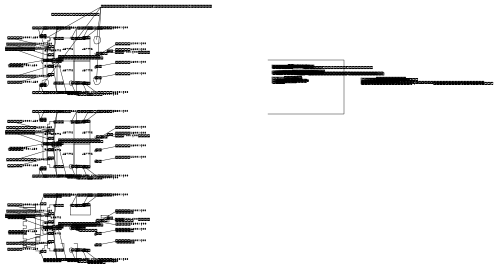corridor: (22, 58, 37, 60), (83, 38, 91, 40)
room: (65, 124, 86, 148), (86, 124, 107, 148), (65, 100, 86, 124), (86, 100, 107, 124), (65, 212, 86, 236), (86, 212, 107, 236), (65, 188, 86, 212), (86, 188, 107, 212), (82, 50, 107, 60), (53, 124, 62, 148), (53, 212, 62, 236), (53, 100, 62, 124), (53, 36, 62, 60), (53, 12, 62, 36), (38, 29, 44, 50), (38, 12, 53, 19), (47, 124, 53, 141), (47, 107, 53, 124), (47, 212, 53, 229), (47, 196, 53, 212), (111, 187, 120, 196), (111, 230, 120, 238), (46, 231, 56, 238), (46, 185, 54, 192), (58, 120, 64, 127), (58, 208, 64, 215), (58, 32, 64, 39), (47, 29, 53, 36), (38, 53, 44, 60), (47, 36, 53, 42), (70, 12, 74, 20), (86, 12, 90, 20), (22, 58, 37, 60), (120, 46, 130, 49), (80, 98, 85, 103), (80, 186, 85, 191), (80, 10, 85, 15), (38, 22, 43, 26), (124, 43, 130, 46), (83, 38, 91, 40), (88, 99, 91, 103), (49, 123, 53, 126), (45, 121, 47, 127), (64, 123, 67, 127), (88, 187, 91, 191), (49, 211, 53, 214), (45, 209, 47, 215), (64, 211, 67, 215), (49, 35, 53, 38), (45, 33, 47, 39), (64, 35, 67, 39), (81, 34, 84, 38), (81, 146, 84, 149), (88, 146, 91, 149), (97, 99, 100, 102), (42, 148, 45, 151), (112, 116, 115, 119), (119, 130, 122, 133), (42, 97, 45, 100), (112, 105, 115, 108), (128, 132, 131, 135), (81, 234, 84, 237), (88, 234, 91, 237), (97, 187, 100, 190), (42, 236, 45, 239), (112, 204, 115, 207), (119, 218, 122, 221), (42, 185, 45, 188), (112, 193, 115, 196), (60, 187, 63, 190), (88, 11, 91, 14), (81, 58, 84, 61), (88, 58, 91, 61), (96, 58, 99, 61), (97, 11, 100, 14), (112, 28, 115, 31), (119, 42, 122, 45), (112, 17, 115, 20), (128, 44, 131, 47), (42, 9, 45, 12), (88, 34, 90, 38), (22, 15, 26, 17), (60, 147, 63, 149), (96, 147, 99, 149), (113, 130, 115, 133), (60, 99, 63, 101), (60, 235, 63, 237), (96, 235, 99, 237), (113, 218, 115, 221), (128, 221, 131, 223), (60, 59, 63, 61), (60, 11, 63, 13), (52, 138, 54, 140), (52, 129, 54, 131), (52, 108, 54, 110), (52, 117, 54, 119), (52, 226, 54, 228), (52, 217, 54, 219), (52, 205, 54, 207), (52, 50, 54, 52), (52, 41, 54, 43), (52, 20, 54, 22), (52, 29, 54, 31), (120, 43, 124, 44), (52, 197, 54, 198)
wall: (48, 189, 120, 269), (49, 235, 120, 269), (10, 124, 52, 137), (10, 212, 52, 225), (10, 36, 52, 49), (10, 130, 53, 141), (10, 107, 53, 118), (10, 218, 53, 229), (10, 195, 53, 206), (10, 42, 53, 53), (10, 19, 53, 30), (115, 190, 120, 269), (10, 139, 53, 148), (10, 227, 53, 236), (66, 90, 77, 125), (66, 178, 77, 213), (66, 2, 77, 37), (10, 101, 53, 109), (10, 189, 53, 197), (10, 51, 53, 59), (10, 13, 53, 21), (11, 207, 47, 213), (59, 125, 65, 158), (59, 90, 65, 123), (59, 213, 65, 246), (59, 178, 65, 211), (59, 37, 65, 70), (59, 2, 65, 35), (11, 119, 47, 124), (11, 31, 47, 36), (115, 235, 120, 269), (121, 132, 139, 141), (121, 220, 139, 229), (121, 44, 139, 53), (100, 148, 116, 158), (100, 90, 116, 100), (100, 236, 116, 246), (100, 178, 116, 188), (100, 60, 116, 70), (100, 2, 116, 12), (113, 118, 139, 122), (113, 206, 139, 210), (113, 30, 139, 34), (114, 131, 139, 135), (113, 106, 138, 110), (114, 219, 139, 223), (113, 194, 138, 198), (113, 18, 138, 22), (114, 39, 139, 43), (97, 88, 104, 100), (97, 176, 104, 188), (97, 0, 104, 12), (83, 88, 89, 101), (83, 176, 89, 189), (83, 0, 89, 13), (97, 148, 104, 158), (97, 236, 104, 246), (97, 60, 104, 70), (83, 148, 89, 158), (83, 236, 89, 246), (83, 60, 89, 70), (43, 149, 48, 158), (43, 90, 48, 99), (43, 237, 48, 246), (43, 178, 48, 187), (43, 2, 48, 11), (43, 61, 48, 70), (83, 33, 92, 37), (62, 147, 65, 158), (62, 90, 65, 101), (62, 178, 65, 189), (62, 59, 65, 70), (62, 2, 65, 13), (62, 236, 65, 246), (61, 124, 67, 128), (41, 90, 44, 98), (61, 212, 67, 216), (41, 178, 44, 186), (61, 36, 67, 40), (128, 132, 139, 134), (128, 220, 139, 222), (128, 44, 139, 46), (41, 151, 44, 158), (41, 239, 44, 246), (89, 33, 92, 37)
